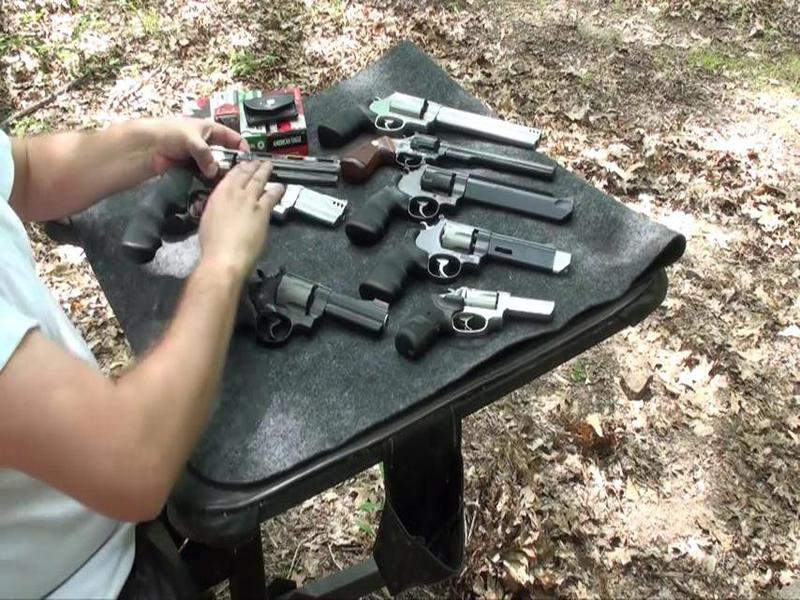Revolver: (133, 106, 341, 273)
